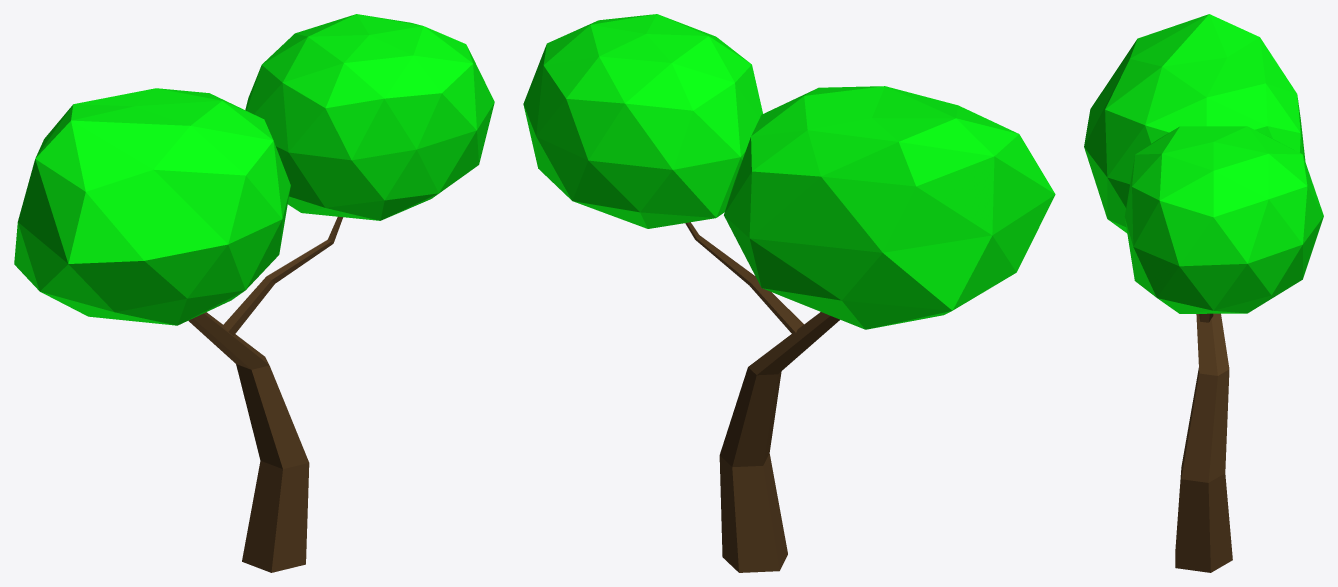
The model's file is baum.fbx.
The picture shows the model from 3 angles, left to right: view 1: azimuth 30°, elevation 25°; view 2: azimuth 150°, elevation 25°; view 3: azimuth 270°, elevation 25°; orthographic projection. The views are drawn at different scales.
Parts seen in each view (by area): view 1: Cylinder; view 2: Cylinder; view 3: Cylinder.
Boxes of the visible parts, x1,y1,x2,y2 form: Cylinder: [14, 14, 494, 572]; Cylinder: [523, 14, 1055, 572]; Cylinder: [1084, 14, 1323, 572].
Bounding box in the file's own units: 1559 × 1609 × 753.
